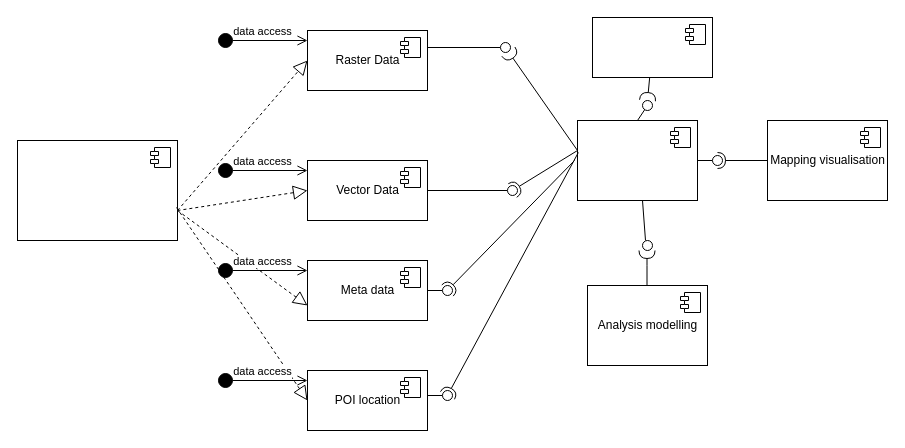
Image size: 905x448. Some labels were removed from this diagram. The shapes that lost their labels are listed below. From the top down, each one's centre as x and y in pixels, then its label:
the point at 652,47: raster processing
the point at 637,160: Orchestration
the point at 97,190: «Mobile application» UI
